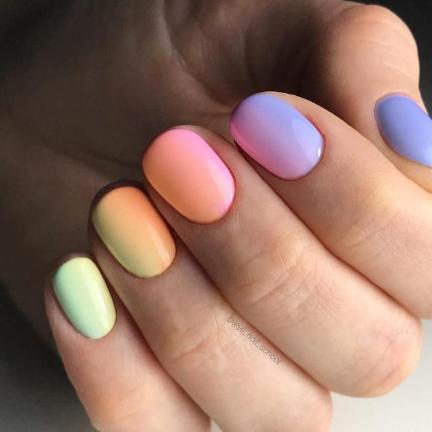Nail: (142, 129, 236, 225), (229, 93, 325, 181), (91, 186, 176, 279), (52, 257, 116, 339), (374, 95, 431, 167)
